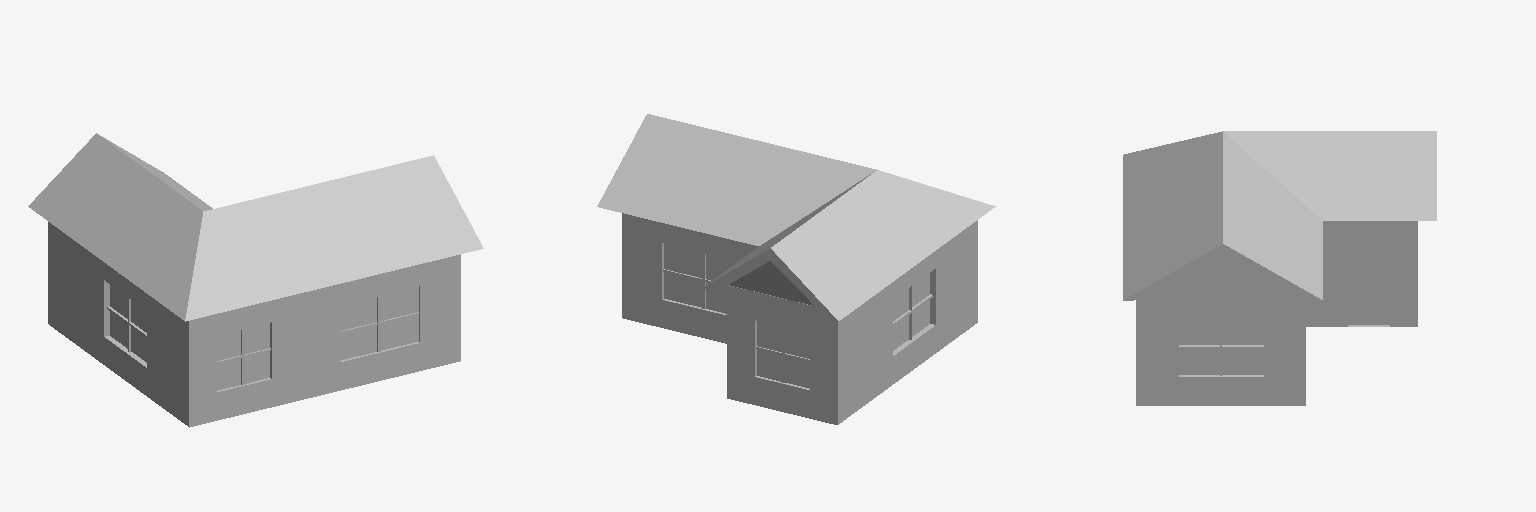
File: LHouse.obj
The picture shows the model from 3 angles: view 1: azimuth 30°, elevation 25°; view 2: azimuth 150°, elevation 25°; view 3: azimuth 270°, elevation 25°; orthographic projection.
Visible parts, largest first — view 1: L-Shape_Cube.002; view 2: L-Shape_Cube.002; view 3: L-Shape_Cube.002.
Part boxes in pixels (bbox=[...]): L-Shape_Cube.002: bbox=[28, 133, 483, 427]; L-Shape_Cube.002: bbox=[597, 114, 995, 424]; L-Shape_Cube.002: bbox=[1123, 131, 1436, 405].
Size of the model in its own units: 7.72 by 4.2 by 7.03.